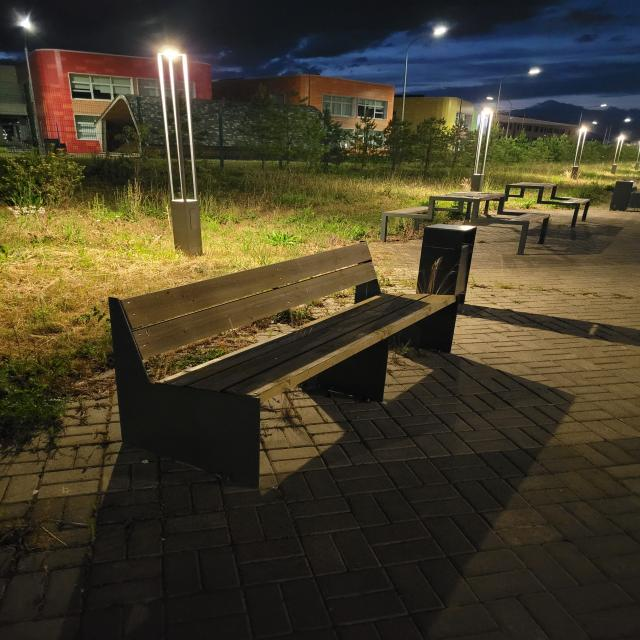Bench: (111, 241, 459, 487)
